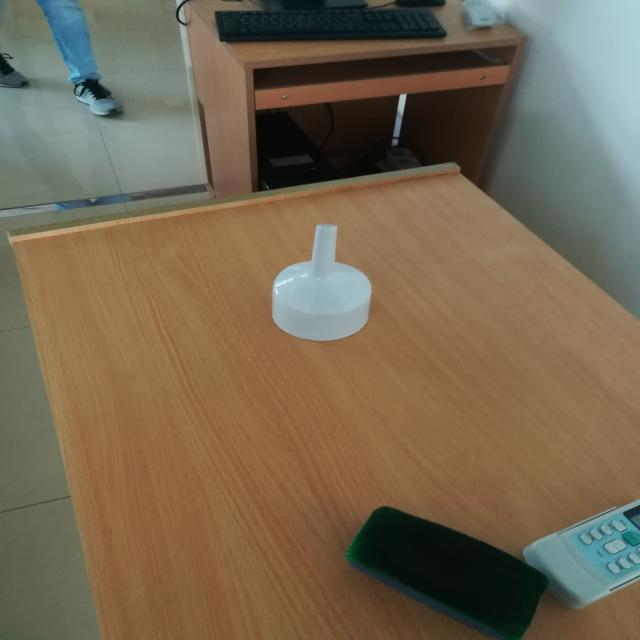Buchner_Funnel: (256, 196, 406, 370)
